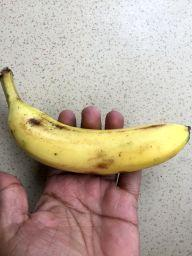banana: (0, 66, 192, 179)
